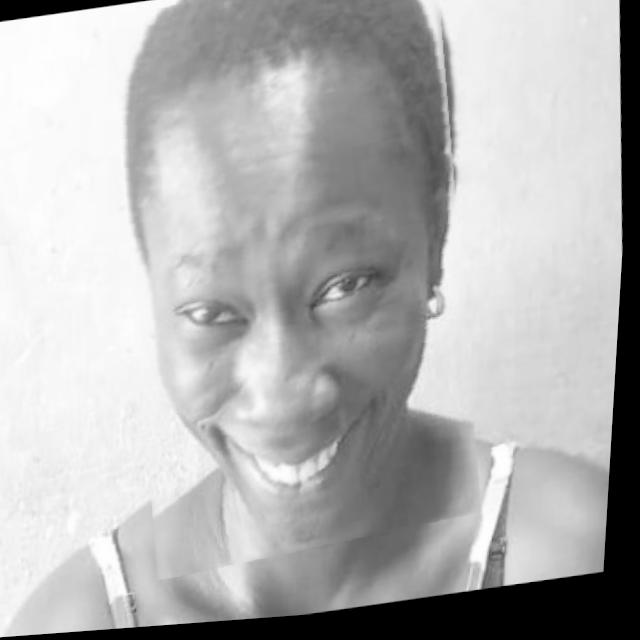happy: (94, 0, 506, 584)
